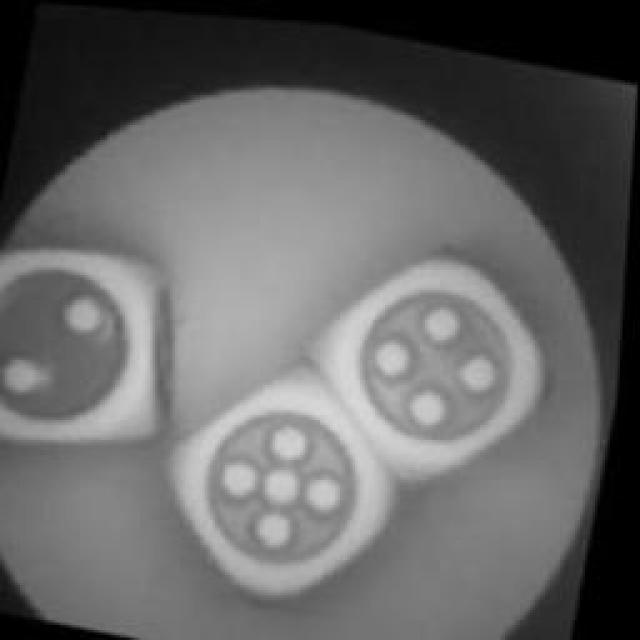dice_2: (0, 228, 175, 452)
dice_4: (328, 228, 558, 478)
dice_5: (162, 362, 400, 606)
